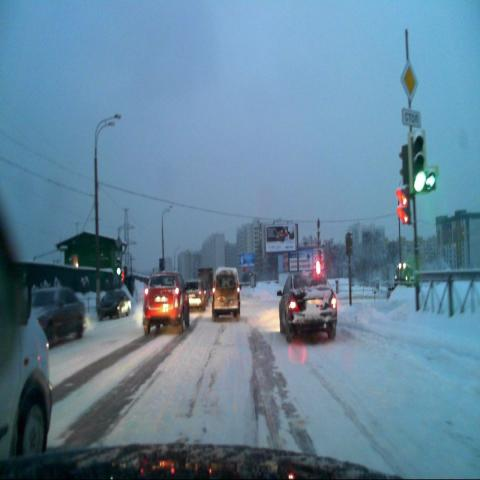2_1: (399, 61, 422, 103)
6_16: (400, 106, 420, 126)
